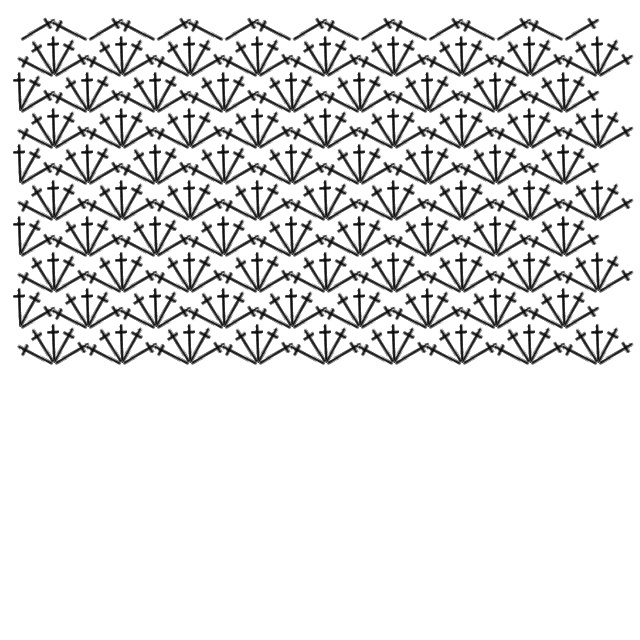enseble_chain: (23, 35, 64, 82), (44, 35, 85, 82), (91, 35, 132, 82), (112, 35, 153, 82), (159, 35, 200, 82), (180, 35, 221, 82), (227, 35, 268, 82), (248, 35, 289, 82), (295, 35, 336, 82), (316, 35, 357, 82), (363, 35, 404, 82), (384, 35, 425, 82), (431, 35, 472, 82), (452, 35, 493, 82), (499, 35, 540, 82), (520, 35, 561, 82), (567, 35, 608, 82), (588, 35, 629, 82), (10, 71, 51, 118), (57, 71, 98, 118), (78, 71, 119, 118), (125, 71, 166, 118), (146, 71, 187, 118), (193, 71, 234, 118), (214, 71, 255, 118), (261, 71, 302, 118), (282, 71, 323, 118), (329, 71, 370, 118), (350, 71, 391, 118), (397, 71, 438, 118), (418, 71, 459, 118), (465, 71, 506, 118), (486, 71, 527, 118), (533, 71, 574, 118), (554, 71, 595, 118), (23, 107, 64, 154), (44, 107, 85, 154), (91, 107, 132, 154), (112, 107, 153, 154), (159, 107, 200, 154), (180, 107, 221, 154), (227, 107, 268, 154), (248, 107, 289, 154), (295, 107, 336, 154), (316, 107, 357, 154), (363, 107, 404, 154), (384, 107, 425, 154), (431, 107, 472, 154), (452, 107, 493, 154), (499, 107, 540, 154), (520, 107, 561, 154), (567, 107, 608, 154), (588, 107, 629, 154), (10, 143, 51, 190), (57, 143, 98, 190), (78, 143, 119, 190), (125, 143, 166, 190), (146, 143, 187, 190), (193, 143, 234, 190), (214, 143, 255, 190), (261, 143, 302, 190), (282, 143, 323, 190), (329, 143, 370, 190), (350, 143, 391, 190), (397, 143, 438, 190), (418, 143, 459, 190), (465, 143, 506, 190), (486, 143, 527, 190), (533, 143, 574, 190), (554, 143, 595, 190), (23, 179, 64, 226), (44, 179, 85, 226), (91, 179, 132, 226), (112, 179, 153, 226), (159, 179, 200, 226), (180, 179, 221, 226), (227, 179, 268, 226), (248, 179, 289, 226), (295, 179, 336, 226), (316, 179, 357, 226), (363, 179, 404, 226), (384, 179, 425, 226), (431, 179, 472, 226), (452, 179, 493, 226), (499, 179, 540, 226), (520, 179, 561, 226), (567, 179, 608, 226), (588, 179, 629, 226), (10, 215, 51, 262), (57, 215, 98, 262), (78, 215, 119, 262), (125, 215, 166, 262), (146, 215, 187, 262), (193, 215, 234, 262), (214, 215, 255, 262), (261, 215, 302, 262), (282, 215, 323, 262), (329, 215, 370, 262), (350, 215, 391, 262), (397, 215, 438, 262), (418, 215, 459, 262), (465, 215, 506, 262), (486, 215, 527, 262), (533, 215, 574, 262), (554, 215, 595, 262), (23, 251, 64, 298), (44, 251, 85, 298), (91, 251, 132, 298), (112, 251, 153, 298), (159, 251, 200, 298), (180, 251, 221, 298), (227, 251, 268, 298), (248, 251, 289, 298), (295, 251, 336, 298), (316, 251, 357, 298), (363, 251, 404, 298), (384, 251, 425, 298), (431, 251, 472, 298), (452, 251, 493, 298), (499, 251, 540, 298), (520, 251, 561, 298), (567, 251, 608, 298), (588, 251, 629, 298), (10, 287, 51, 334), (57, 287, 98, 334), (78, 287, 119, 334), (125, 287, 166, 334), (146, 287, 187, 334), (193, 287, 234, 334), (214, 287, 255, 334), (261, 287, 302, 334), (282, 287, 323, 334), (329, 287, 370, 334), (350, 287, 391, 334), (397, 287, 438, 334), (418, 287, 459, 334), (465, 287, 506, 334), (486, 287, 527, 334), (533, 287, 574, 334), (554, 287, 595, 334), (23, 323, 64, 370), (44, 323, 85, 370), (91, 323, 132, 370), (112, 323, 153, 370), (159, 323, 200, 370), (180, 323, 221, 370), (227, 323, 268, 370), (248, 323, 289, 370), (295, 323, 336, 370), (316, 323, 357, 370), (363, 323, 404, 370), (384, 323, 425, 370), (431, 323, 472, 370), (452, 323, 493, 370), (499, 323, 540, 370), (520, 323, 561, 370), (567, 323, 608, 370), (588, 323, 629, 370), (14, 10, 62, 50), (46, 10, 94, 50), (82, 10, 130, 50), (114, 10, 162, 50), (150, 10, 198, 50), (182, 10, 230, 50), (218, 10, 266, 50), (250, 10, 298, 50), (286, 10, 334, 50), (318, 10, 366, 50), (354, 10, 402, 50), (386, 10, 434, 50), (422, 10, 470, 50), (454, 10, 502, 50), (490, 10, 538, 50), (522, 10, 570, 50), (558, 10, 606, 50), (12, 46, 60, 86), (48, 46, 96, 86), (80, 46, 128, 86), (116, 46, 164, 86), (148, 46, 196, 86), (184, 46, 232, 86), (216, 46, 264, 86), (252, 46, 300, 86), (284, 46, 332, 86), (320, 46, 368, 86), (352, 46, 400, 86), (388, 46, 436, 86), (420, 46, 468, 86), (456, 46, 504, 86), (488, 46, 536, 86), (524, 46, 572, 86), (556, 46, 604, 86), (592, 46, 640, 86), (14, 82, 62, 122), (46, 82, 94, 122), (82, 82, 130, 122), (114, 82, 162, 122), (150, 82, 198, 122), (182, 82, 230, 122), (218, 82, 266, 122), (250, 82, 298, 122), (286, 82, 334, 122), (318, 82, 366, 122), (354, 82, 402, 122), (386, 82, 434, 122), (422, 82, 470, 122), (454, 82, 502, 122), (490, 82, 538, 122), (522, 82, 570, 122), (558, 82, 606, 122), (12, 118, 60, 158), (48, 118, 96, 158), (80, 118, 128, 158), (116, 118, 164, 158), (148, 118, 196, 158), (184, 118, 232, 158), (216, 118, 264, 158), (252, 118, 300, 158), (284, 118, 332, 158), (320, 118, 368, 158), (352, 118, 400, 158), (388, 118, 436, 158), (420, 118, 468, 158), (456, 118, 504, 158), (488, 118, 536, 158), (524, 118, 572, 158), (556, 118, 604, 158), (592, 118, 640, 158), (14, 154, 62, 194), (46, 154, 94, 194), (82, 154, 130, 194), (114, 154, 162, 194), (150, 154, 198, 194), (182, 154, 230, 194), (218, 154, 266, 194), (250, 154, 298, 194), (286, 154, 334, 194), (318, 154, 366, 194), (354, 154, 402, 194), (386, 154, 434, 194), (422, 154, 470, 194), (454, 154, 502, 194), (490, 154, 538, 194), (522, 154, 570, 194), (558, 154, 606, 194), (12, 190, 60, 230), (48, 190, 96, 230), (80, 190, 128, 230), (116, 190, 164, 230), (148, 190, 196, 230), (184, 190, 232, 230), (216, 190, 264, 230), (252, 190, 300, 230), (284, 190, 332, 230), (320, 190, 368, 230), (352, 190, 400, 230), (388, 190, 436, 230), (420, 190, 468, 230), (456, 190, 504, 230), (488, 190, 536, 230), (524, 190, 572, 230), (556, 190, 604, 230), (592, 190, 640, 230), (14, 226, 62, 266), (46, 226, 94, 266), (82, 226, 130, 266), (114, 226, 162, 266), (150, 226, 198, 266), (182, 226, 230, 266), (218, 226, 266, 266), (250, 226, 298, 266), (286, 226, 334, 266), (318, 226, 366, 266), (354, 226, 402, 266), (386, 226, 434, 266), (422, 226, 470, 266), (454, 226, 502, 266), (490, 226, 538, 266), (522, 226, 570, 266), (558, 226, 606, 266), (12, 262, 60, 302), (48, 262, 96, 302), (80, 262, 128, 302), (116, 262, 164, 302), (148, 262, 196, 302), (184, 262, 232, 302), (216, 262, 264, 302), (252, 262, 300, 302), (284, 262, 332, 302), (320, 262, 368, 302), (352, 262, 400, 302), (388, 262, 436, 302), (420, 262, 468, 302), (456, 262, 504, 302), (488, 262, 536, 302), (524, 262, 572, 302), (556, 262, 604, 302), (592, 262, 640, 302), (14, 298, 62, 338), (46, 298, 94, 338), (82, 298, 130, 338), (114, 298, 162, 338), (150, 298, 198, 338), (182, 298, 230, 338), (218, 298, 266, 338), (250, 298, 298, 338), (286, 298, 334, 338), (318, 298, 366, 338), (354, 298, 402, 338), (386, 298, 434, 338), (422, 298, 470, 338), (454, 298, 502, 338), (490, 298, 538, 338), (522, 298, 570, 338), (558, 298, 606, 338), (12, 334, 60, 374), (48, 334, 96, 374), (80, 334, 128, 374), (116, 334, 164, 374), (148, 334, 196, 374), (184, 334, 232, 374), (216, 334, 264, 374), (252, 334, 300, 374), (284, 334, 332, 374), (320, 334, 368, 374), (352, 334, 400, 374), (388, 334, 436, 374), (420, 334, 468, 374), (456, 334, 504, 374), (488, 334, 536, 374), (524, 334, 572, 374), (556, 334, 604, 374), (592, 334, 640, 374), (42, 35, 66, 76), (110, 35, 134, 76), (178, 35, 202, 76), (246, 35, 270, 76), (314, 35, 338, 76), (382, 35, 406, 76), (450, 35, 474, 76), (518, 35, 542, 76), (586, 35, 610, 76), (8, 71, 32, 112), (76, 71, 100, 112), (144, 71, 168, 112), (212, 71, 236, 112), (280, 71, 304, 112), (348, 71, 372, 112), (416, 71, 440, 112), (484, 71, 508, 112), (552, 71, 576, 112), (42, 107, 66, 148), (110, 107, 134, 148), (178, 107, 202, 148), (246, 107, 270, 148), (314, 107, 338, 148), (382, 107, 406, 148), (450, 107, 474, 148), (518, 107, 542, 148), (586, 107, 610, 148), (8, 143, 32, 184), (76, 143, 100, 184), (144, 143, 168, 184), (212, 143, 236, 184), (280, 143, 304, 184), (348, 143, 372, 184), (416, 143, 440, 184), (484, 143, 508, 184), (552, 143, 576, 184), (42, 179, 66, 220), (110, 179, 134, 220), (178, 179, 202, 220), (246, 179, 270, 220), (314, 179, 338, 220), (382, 179, 406, 220), (450, 179, 474, 220), (518, 179, 542, 220), (586, 179, 610, 220), (8, 215, 32, 256), (76, 215, 100, 256), (144, 215, 168, 256), (212, 215, 236, 256), (280, 215, 304, 256), (348, 215, 372, 256), (416, 215, 440, 256), (484, 215, 508, 256), (552, 215, 576, 256), (42, 251, 66, 292), (110, 251, 134, 292), (178, 251, 202, 292), (246, 251, 270, 292), (314, 251, 338, 292), (382, 251, 406, 292), (450, 251, 474, 292), (518, 251, 542, 292), (586, 251, 610, 292), (8, 287, 32, 328), (76, 287, 100, 328), (144, 287, 168, 328), (212, 287, 236, 328), (280, 287, 304, 328), (348, 287, 372, 328), (416, 287, 440, 328), (484, 287, 508, 328), (552, 287, 576, 328), (42, 323, 66, 364), (110, 323, 134, 364), (178, 323, 202, 364), (246, 323, 270, 364), (314, 323, 338, 364), (382, 323, 406, 364), (450, 323, 474, 364), (518, 323, 542, 364), (586, 323, 610, 364)
